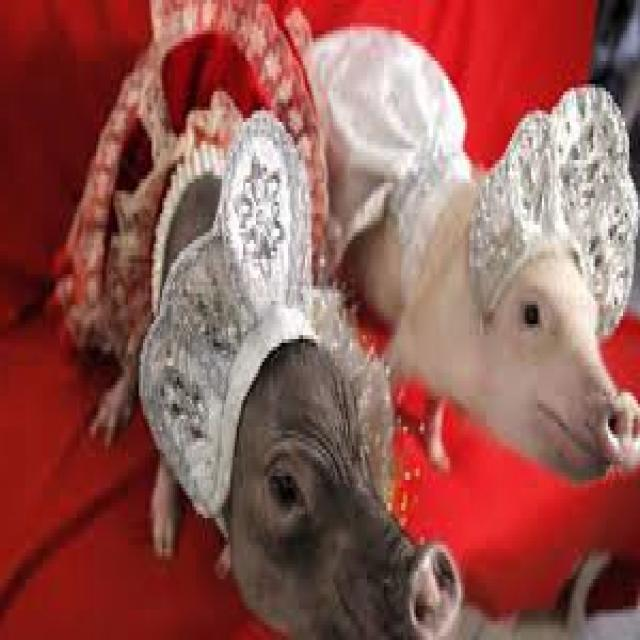pig: (350, 130, 640, 476), (230, 339, 461, 636)
